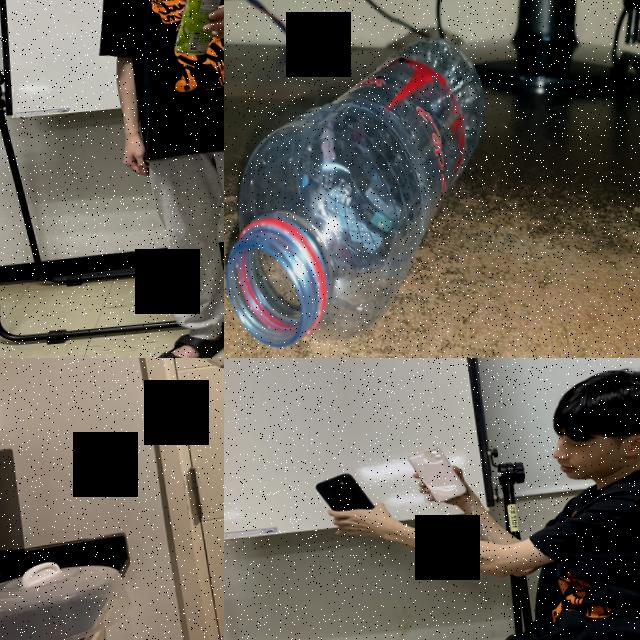bottle: (224, 22, 510, 358)
can: (167, 0, 224, 57)
